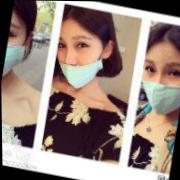OK: (134, 45, 180, 119), (2, 19, 31, 80)
WRONG: (44, 24, 111, 94)
